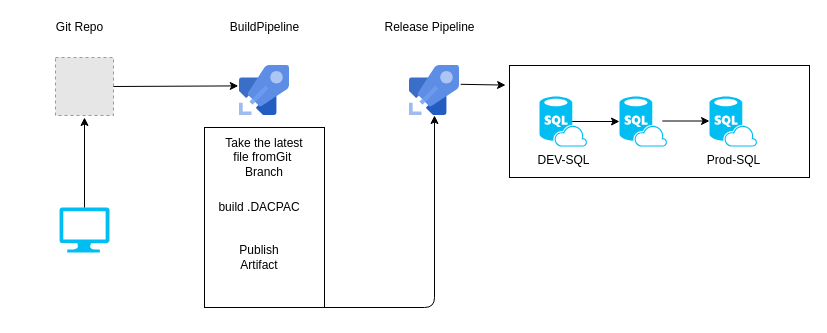
Image size: 827x333. Some labels were removed from this diagram. Grey dashed boxes stand in for pictures. Here are the shapes that lost their labels. From the top down, the box of each, then its label:
(619, 96, 666, 146): UAT-SQL
(59, 207, 109, 252): Local Machine Codebase
